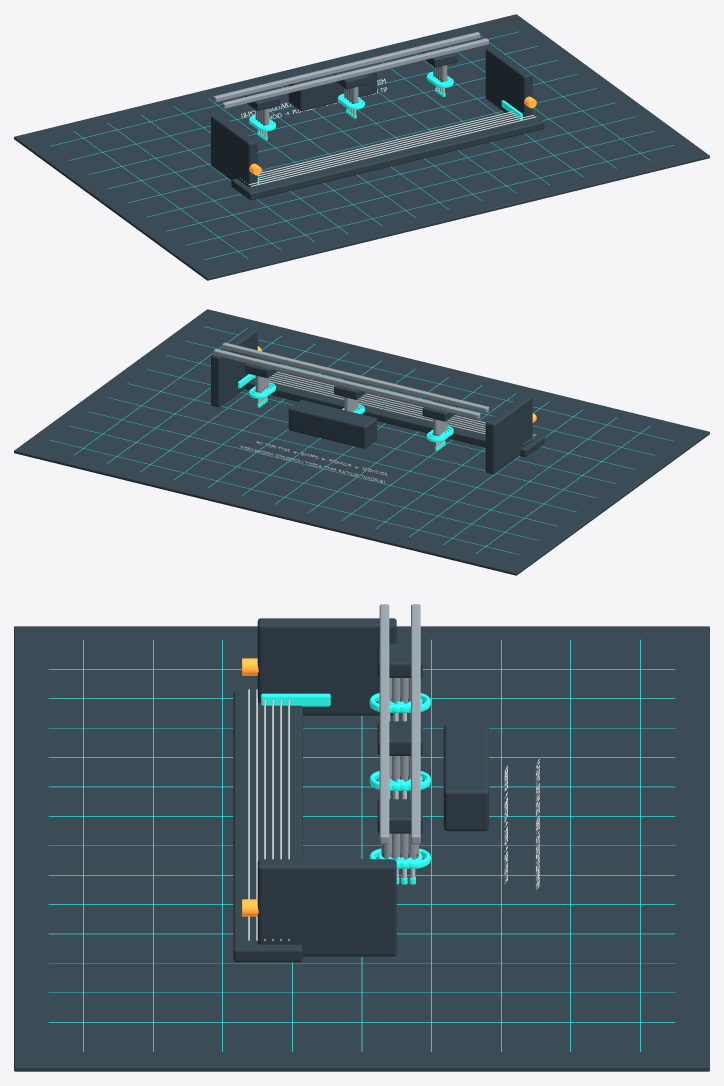
File: guitar_fret_assist_mechanical_v2.glb
The picture shows the model from 3 angles, top to bottom: view 1: azimuth 30°, elevation 25°; view 2: azimuth 150°, elevation 25°; view 3: azimuth 270°, elevation 25°; orthographic projection. The views are drawn at different scales.
Visible parts, largest first — view 1: Floor, Fretboard cross section, Clamp jaw A, Clamp jaw B, Rail right, Rail left, Driver board enclosure, String, String.001, Grid.015, Grid.014, Grid.013 (+4 smaller); view 2: Floor, Fretboard cross section, Driver board enclosure, Clamp jaw A, Rail right, Rail left, Clamp jaw B, Grid.018, Grid.021, Grid.020, Grid.019; view 3: Floor, Clamp jaw B, Fretboard cross section, Clamp jaw A, Driver board enclosure, Rail left, Rail right, Carriage.002, Carriage, Carriage.001, Grid.009, TPU liner A (+1 smaller).
Part boxes in pixels (box(x1,y1,x2,y2)): Floor: box(14, 14, 709, 280); Fretboard cross section: box(231, 113, 544, 200); Clamp jaw A: box(211, 114, 257, 186); Clamp jaw B: box(485, 47, 532, 119); Rail right: box(213, 32, 480, 102); Rail left: box(222, 38, 488, 108); Driver board enclosure: box(288, 65, 376, 110); String: box(250, 116, 535, 186); String.001: box(248, 115, 533, 185); Grid.015: box(166, 116, 635, 231); Grid.014: box(185, 131, 654, 245); Grid.013: box(205, 145, 673, 259); Floor: box(14, 309, 709, 575); Fretboard cross section: box(245, 371, 544, 457); Driver board enclosure: box(288, 400, 376, 448); Clamp jaw A: box(485, 395, 532, 474); Rail right: box(213, 349, 480, 419); Rail left: box(222, 342, 488, 412); Clamp jaw B: box(211, 328, 257, 407); Grid.018: box(108, 397, 576, 511); Grid.021: box(50, 440, 518, 554); Grid.020: box(69, 426, 538, 540); Grid.019: box(88, 411, 557, 526); Floor: box(14, 626, 709, 1071); Clamp jaw B: box(257, 859, 396, 956); Fretboard cross section: box(233, 691, 302, 962); Clamp jaw A: box(257, 618, 396, 715); Driver board enclosure: box(443, 725, 488, 831); Rail left: box(379, 604, 389, 844); Rail right: box(411, 604, 420, 844); Carriage.002: box(377, 799, 422, 833); Carriage: box(377, 643, 422, 677); Carriage.001: box(377, 721, 422, 755); Grid.009: box(49, 933, 674, 934); TPU liner A: box(261, 693, 330, 706).
Size of the model in its own units: 30 by 4.17 by 20.
